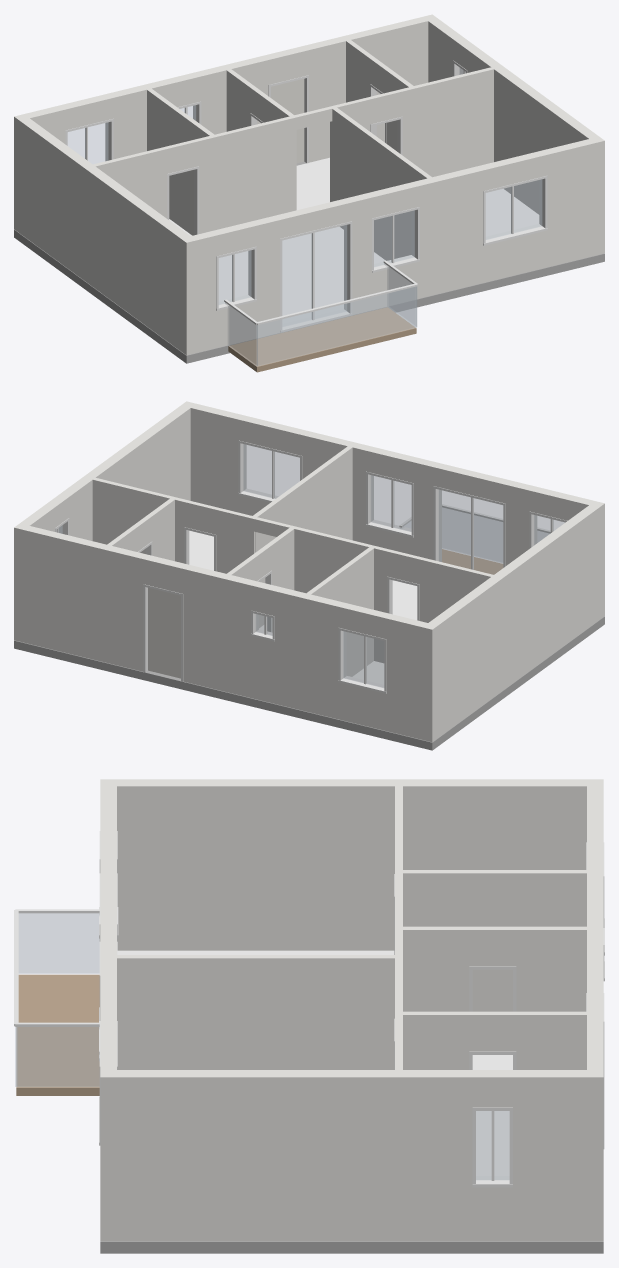
Rendered from apt70_scandi_shell.glb.
3 renders of one model, top to bottom at view 1: azimuth 30°, elevation 25°; view 2: azimuth 150°, elevation 25°; view 3: azimuth 270°, elevation 25°, orthographic. The views are drawn at different scales.
Visible parts, largest first — view 1: Ext_W, y42.002, y42.006, Ext_S.008, Ext_N.008, Ext_S.011, Railing_glass, Ext_E, x6, Floor_Living_kitchen, Balcony, Frame.010 (+42 smaller); view 2: Ext_W, Ext_N.008, Ext_N.006, Ext_N.003, Ext_E, Ext_N, Slab, x6, Ext_S.011, Frame.010, y42.002, y42.006 (+34 smaller); view 3: Ext_W, Ext_E, x6, Ext_E.003, x3, Balcony, Slab, x5.002, x5, Railing_glass.002, Railing_glass.001, Ext_N.008 (+15 smaller).
Part boxes in pixels (x1=…): Ext_W: x1=19, y1=118, x2=190, y2=350; y42.002: x1=196, y1=116, x2=296, y2=233; y42.006: x1=400, y1=67, x2=493, y2=177; Ext_S.008: x1=414, y1=166, x2=483, y2=298; Ext_N.008: x1=303, y1=14, x2=437, y2=162; Ext_S.011: x1=542, y1=136, x2=604, y2=267; Railing_glass: x1=257, y1=286, x2=416, y2=366; Ext_E: x1=467, y1=47, x2=598, y2=214; x6: x1=331, y1=107, x2=431, y2=260; Floor_Living_kitchen: x1=218, y1=227, x2=385, y2=323; Balcony: x1=228, y1=307, x2=416, y2=372; Frame.010: x1=282, y1=225, x2=346, y2=326; Ext_W: x1=429, y1=505, x2=599, y2=737; Ext_N.008: x1=14, y1=523, x2=148, y2=671; Ext_N.006: x1=183, y1=565, x2=256, y2=697; Ext_N.003: x1=275, y1=587, x2=343, y2=719; Ext_E: x1=59, y1=405, x2=190, y2=540; Ext_N: x1=386, y1=614, x2=438, y2=742; Slab: x1=14, y1=616, x2=604, y2=750; x6: x1=252, y1=446, x2=352, y2=627; Ext_S.011: x1=181, y1=401, x2=243, y2=512; Frame.010: x1=439, y1=490, x2=502, y2=574; y42.002: x1=291, y1=526, x2=389, y2=663; y42.006: x1=92, y1=477, x2=186, y2=563; Ext_W: x1=117, y1=779, x2=586, y2=950; Ext_E: x1=117, y1=1070, x2=472, y2=1241; x6: x1=117, y1=955, x2=398, y2=1069; Ext_E.003: x1=513, y1=1070, x2=586, y2=1241; x3: x1=399, y1=870, x2=586, y2=1011; Balcony: x1=16, y1=974, x2=99, y2=1095; Slab: x1=100, y1=1241, x2=603, y2=1253; x5.002: x1=516, y1=926, x2=586, y2=1011; x5: x1=399, y1=926, x2=469, y2=1011; Railing_glass.002: x1=16, y1=1027, x2=99, y2=1086; Railing_glass.001: x1=19, y1=913, x2=99, y2=973; Ext_N.008: x1=587, y1=985, x2=603, y2=1241.
Size of the model in its own units: 10.52 by 2.9 by 8.8.
